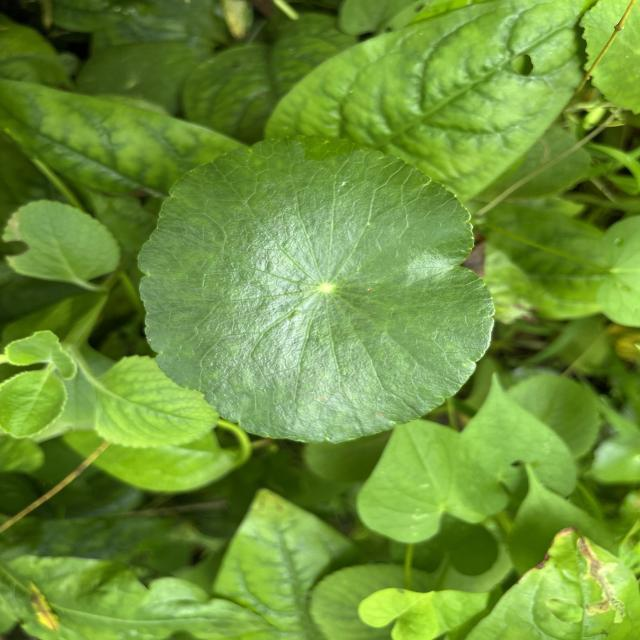Bacopa monnieri: (134, 131, 498, 447)
